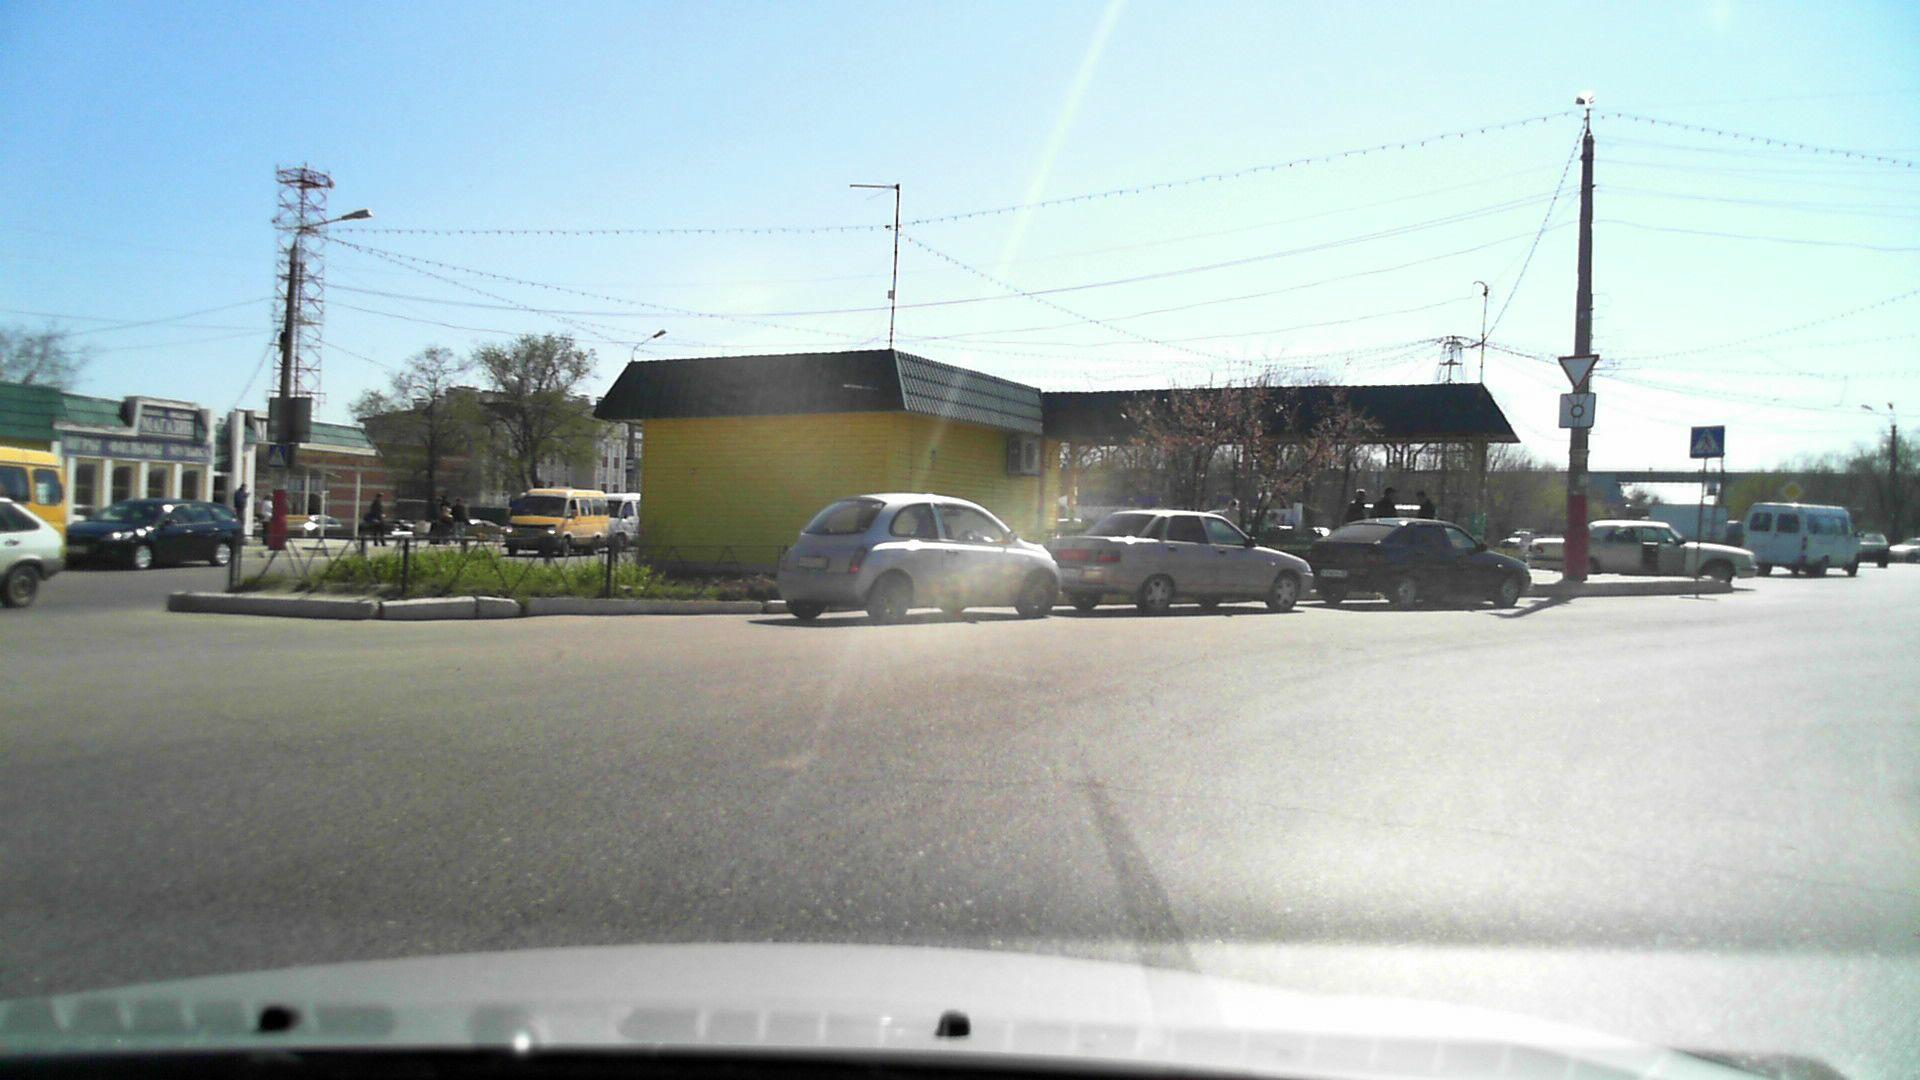2_4: (1557, 352, 1600, 389)
5_19_2: (1687, 423, 1726, 462), (265, 442, 291, 469)
8_13: (1556, 393, 1604, 433)
